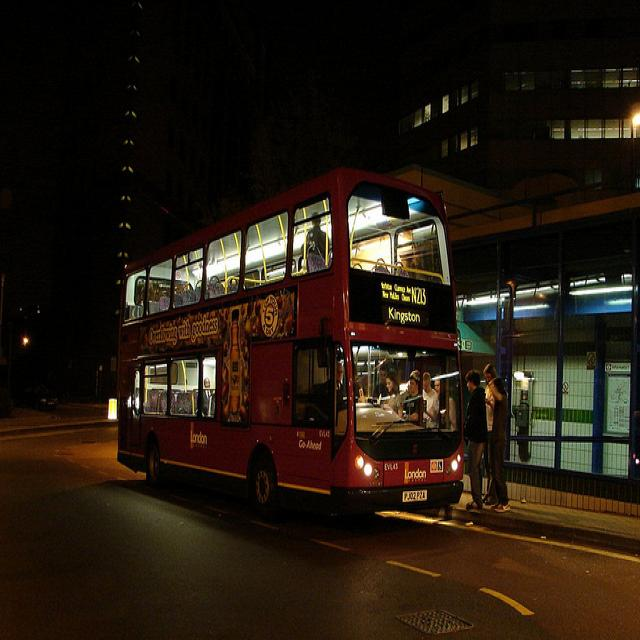People: (489, 345, 534, 537), (462, 365, 498, 492), (423, 363, 451, 455), (398, 367, 423, 442), (377, 367, 400, 426), (310, 199, 320, 280)
